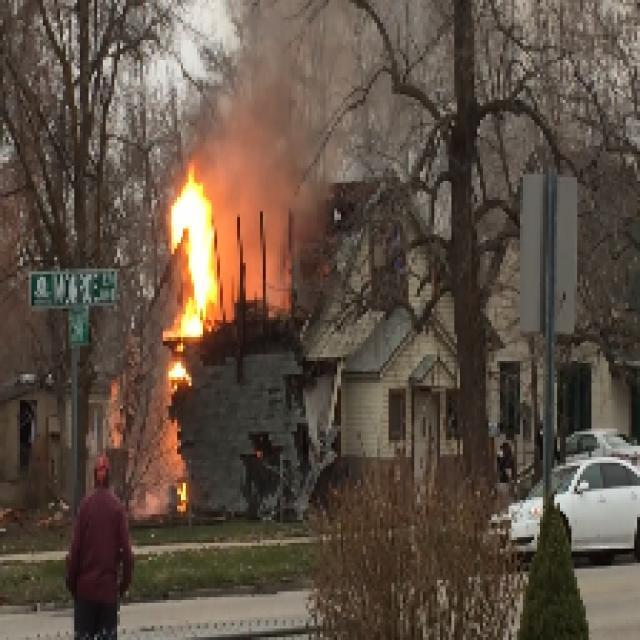Fire: (170, 176, 226, 347)
Smoke: (228, 36, 312, 292)
